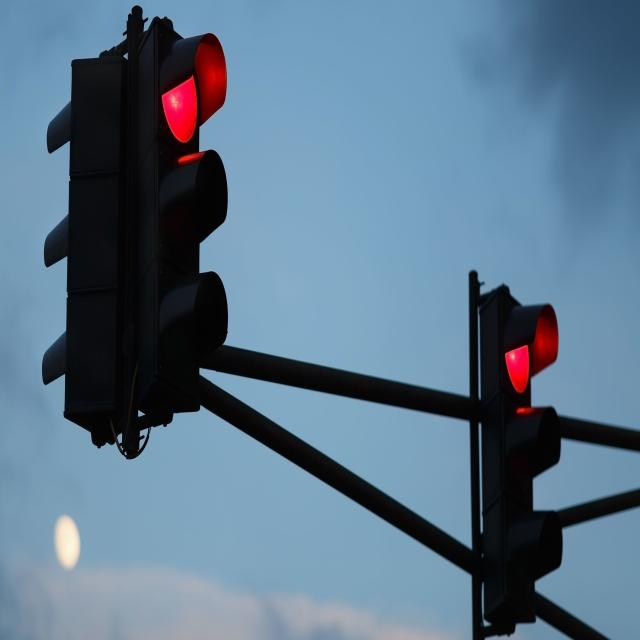red: (143, 24, 223, 408), (486, 288, 560, 617)
